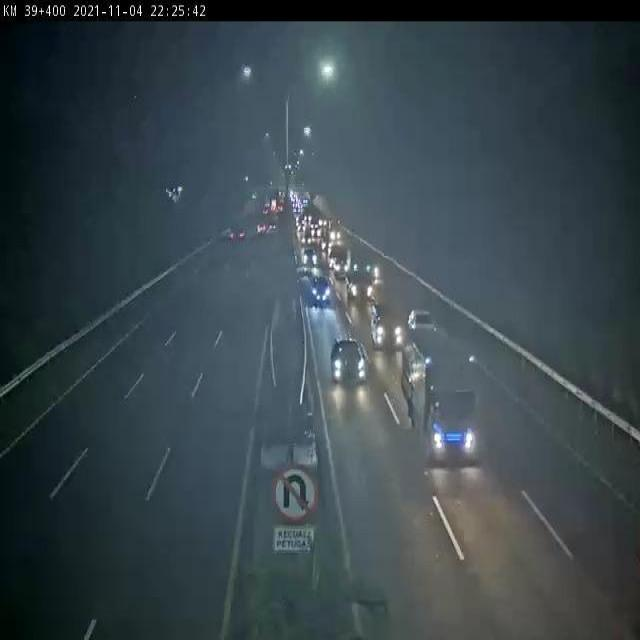car: (368, 295, 408, 352), (329, 337, 371, 387), (344, 259, 376, 305), (308, 269, 336, 312)
truck-m-: (399, 325, 478, 463)
